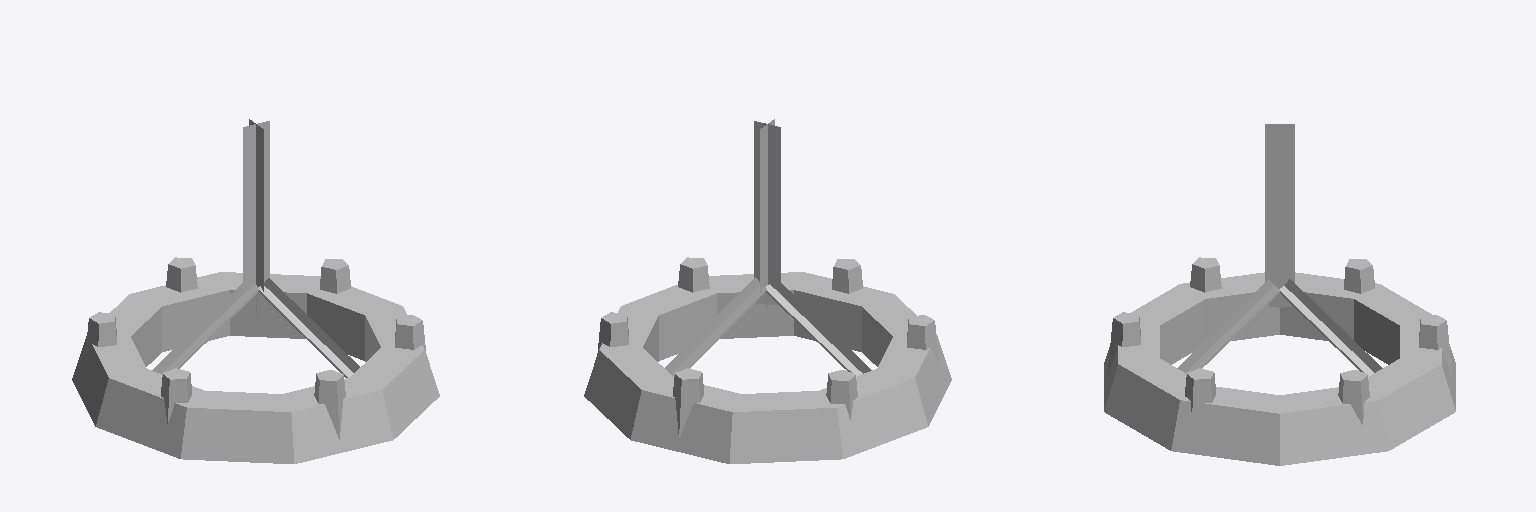
File: innchandelier.obj
3 renders of one model, left to right at view 1: azimuth 30°, elevation 25°; view 2: azimuth 150°, elevation 25°; view 3: azimuth 270°, elevation 25°, orthographic.
Visible parts, largest first — view 1: innchandelier1, innchandelier2, innchandelier3, innchandelier0; view 2: innchandelier1, innchandelier2, innchandelier3, innchandelier0; view 3: innchandelier1, innchandelier2, innchandelier3, innchandelier0.
Part boxes in pixels (x1,y1,x2,y2): innchandelier1: (72,290,439,463); innchandelier2: (92,272,424,411); innchandelier3: (152,119,359,377); innchandelier0: (85,257,425,439); innchandelier1: (584,290,951,463); innchandelier2: (599,272,936,411); innchandelier3: (665,119,871,376); innchandelier0: (597,257,938,437); innchandelier1: (1104,292,1455,465); innchandelier2: (1118,272,1441,413); innchandelier3: (1177,124,1382,376); innchandelier0: (1107,257,1452,424).
Size of the model in its own units: 3.12 by 2.45 by 2.97.